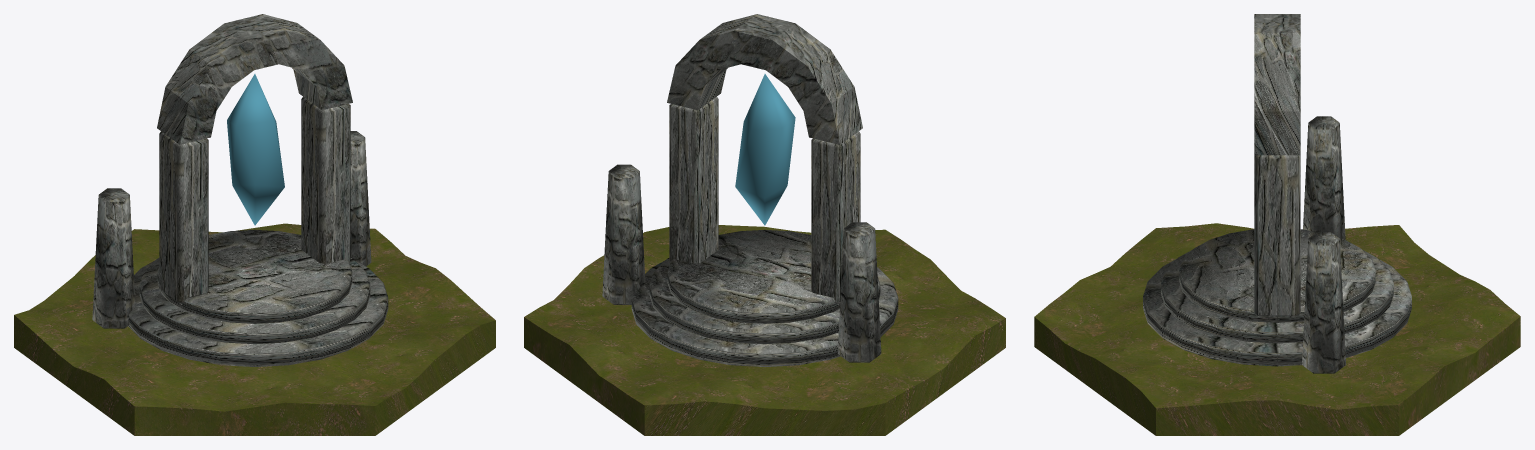
Rendered from env-terrain-portal-mobile.glb.
3 renders of one model, left to right at view 1: azimuth 30°, elevation 25°; view 2: azimuth 150°, elevation 25°; view 3: azimuth 270°, elevation 25°, orthographic.
Parts seen in each view (by area): view 1: terrain portal · authored textured miniature; view 2: terrain portal · authored textured miniature; view 3: terrain portal · authored textured miniature.
Part boxes in pixels (x1=…): terrain portal · authored textured miniature: x1=14, y1=14, x2=495, y2=435; terrain portal · authored textured miniature: x1=524, y1=14, x2=1005, y2=435; terrain portal · authored textured miniature: x1=1034, y1=14, x2=1520, y2=435.
Bounding box in the file's own units: 1.63 × 1.38 × 1.88.
Materials: 3 (2 with a texture image).
